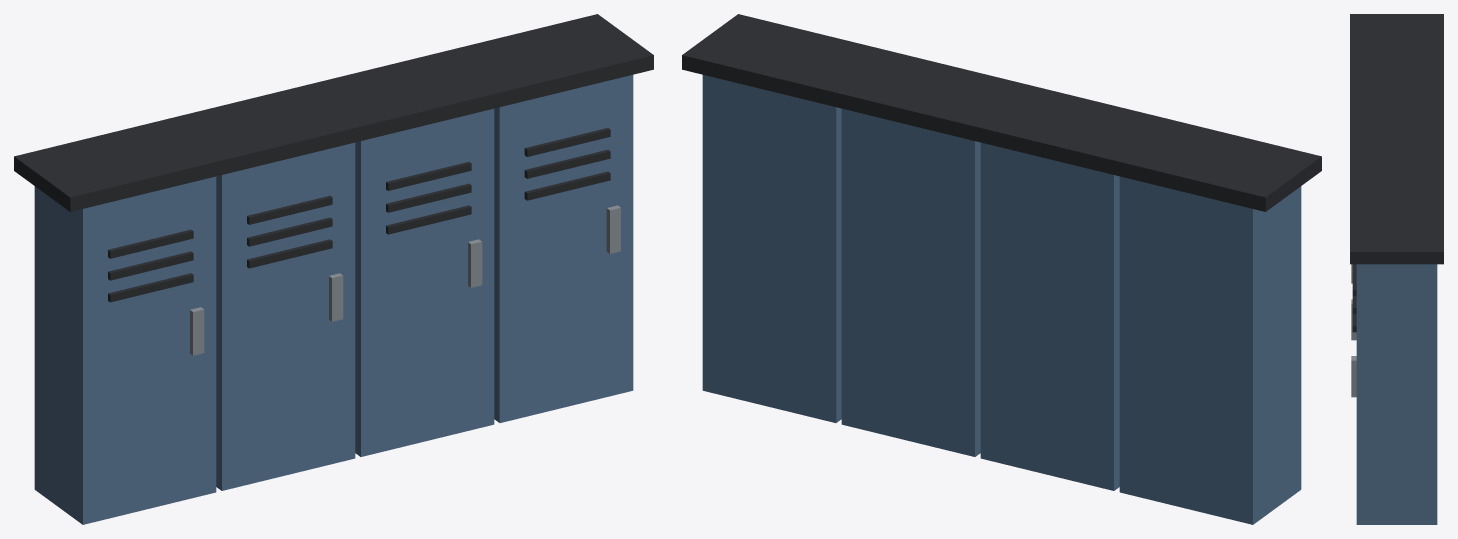
File: Lockers.fbx
The picture shows the model from 3 angles, left to right: view 1: azimuth 30°, elevation 25°; view 2: azimuth 150°, elevation 25°; view 3: azimuth 270°, elevation 25°; orthographic projection. The views are drawn at different scales.
Parts seen in each view (by area): view 1: Lockers_Mesh; view 2: Lockers_Mesh; view 3: Lockers_Mesh.
Part boxes in pixels (x1,y1,x2,y2): Lockers_Mesh: (14, 14, 653, 524); Lockers_Mesh: (682, 14, 1321, 524); Lockers_Mesh: (1350, 14, 1443, 524).
Size of the model in its own units: 4.2 by 2.3 by 0.7.
Materials: 1 (1 with a texture image).
